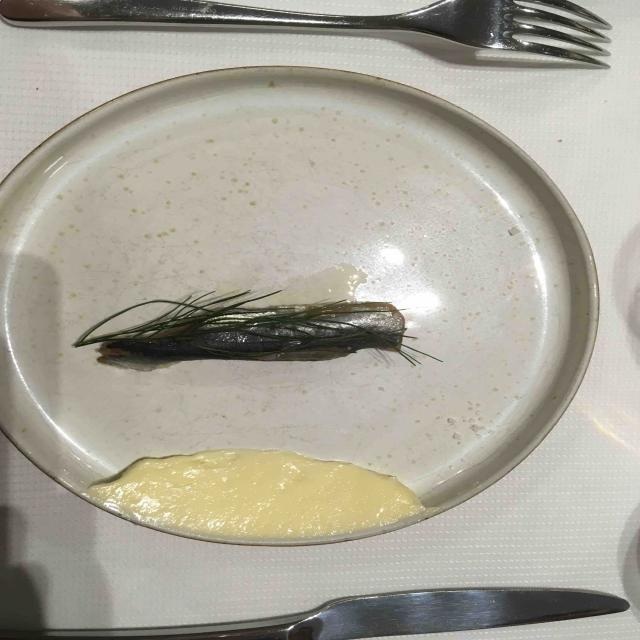butter: (103, 448, 449, 534)
